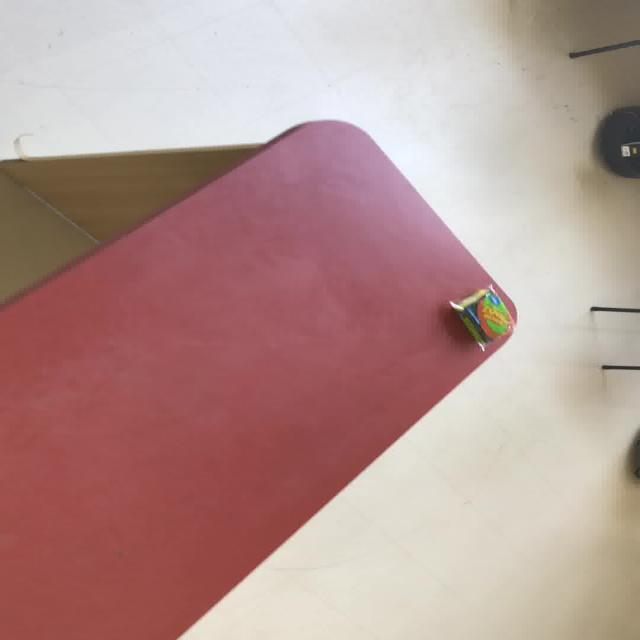sponge: (1, 117, 518, 638), (447, 286, 513, 351)
